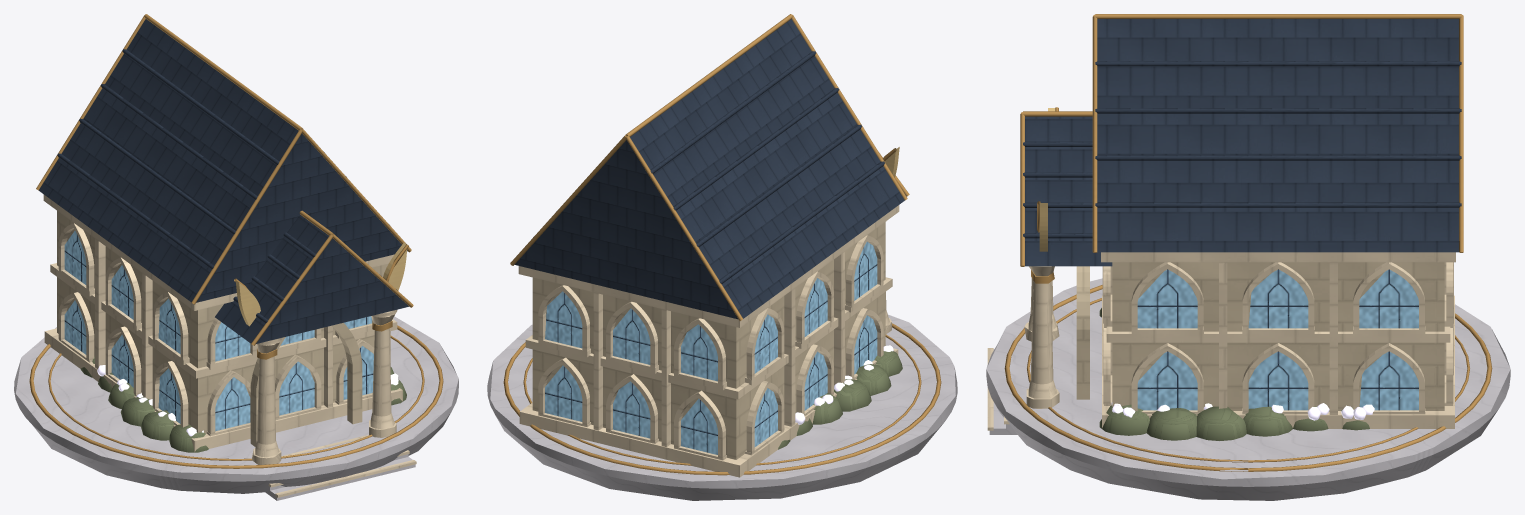
Rendered from clarentine-s-house-far.glb.
3 renders of one model, left to right at view 1: azimuth 30°, elevation 25°; view 2: azimuth 150°, elevation 25°; view 3: azimuth 270°, elevation 25°, orthographic. The views are drawn at different scales.
Size of the model in its own units: 6.04 by 4.84 by 6.04.
9 materials, 9 textured.
